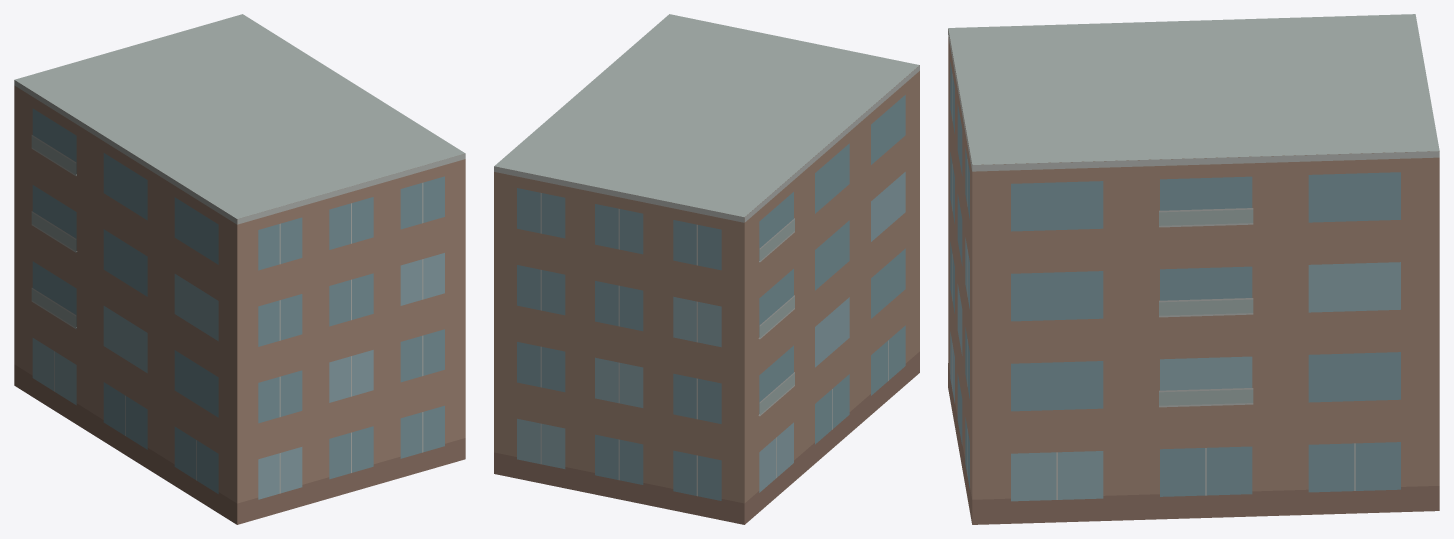
File: survey-upis-32735002.glb
The picture shows the model from 3 angles, left to right: view 1: azimuth 30°, elevation 25°; view 2: azimuth 150°, elevation 25°; view 3: azimuth 270°, elevation 25°; orthographic projection. The views are drawn at different scales.
Parts seen in each view (by area): view 1: survey-upis-32735002.tmp; view 2: survey-upis-32735002.tmp; view 3: survey-upis-32735002.tmp.
Boxes of the visible parts, x1,y1,x2,y2 form: survey-upis-32735002.tmp: [14, 14, 465, 524]; survey-upis-32735002.tmp: [494, 14, 919, 524]; survey-upis-32735002.tmp: [948, 14, 1439, 524].
Size of the model in its own units: 12.09 by 13.42 by 16.62.
